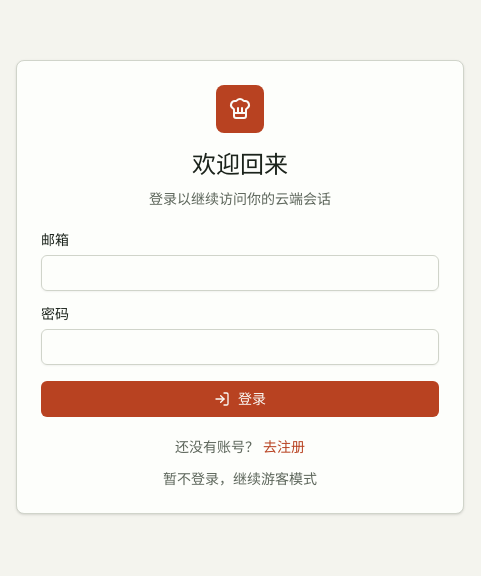
AuthPage › shows a safe login failure
Type "cook@example.com" into the field labelled "邮箱". click: (240, 273)
box: left=41, top=255, right=439, bottom=291
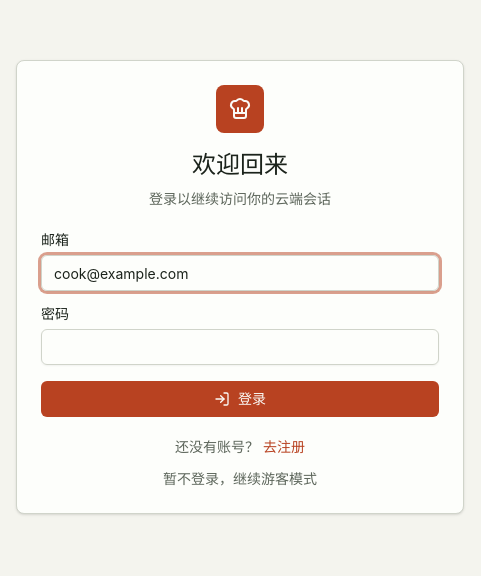
Type "wrong" into the password field labelled "密码". click: (240, 347)
box: left=41, top=329, right=439, bottom=365
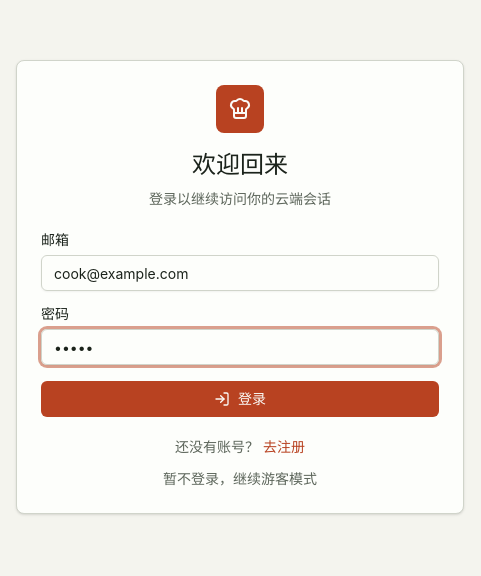
Click the button "登录". click: click(240, 399)
box: left=41, top=381, right=439, bottom=417
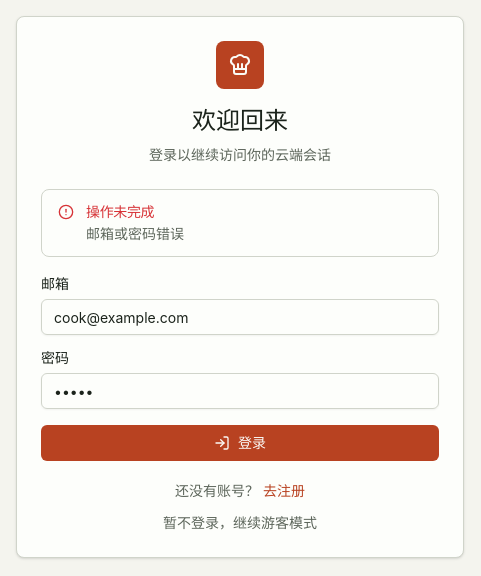
Result: the text "邮箱或密码错误" is shown at left=86, top=225, right=184, bottom=242
